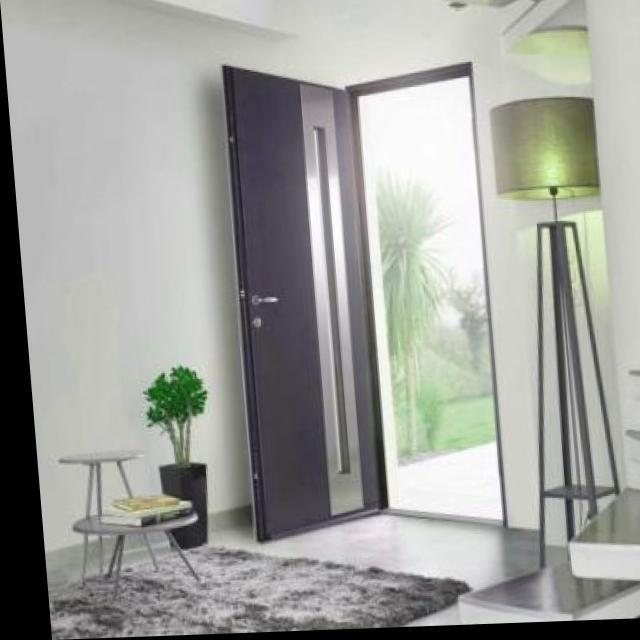door_handle: (243, 292, 287, 315)
